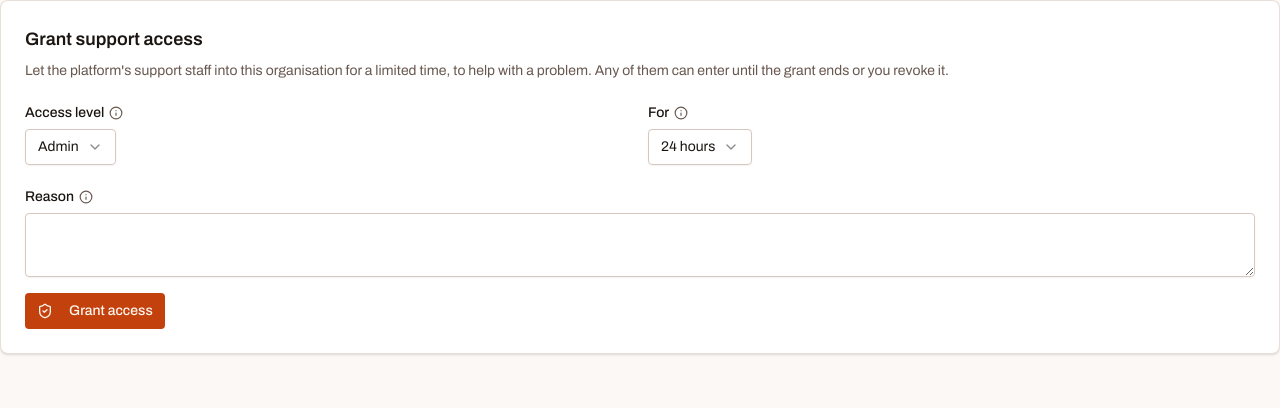
Test: SupportGrantForm › shows the API’s refusal as worded, and does not refresh
In the text box labelled "Reason": coordinates (640, 245) top-left (25, 213), bottom-right (1255, 277), type "Ticket 42"
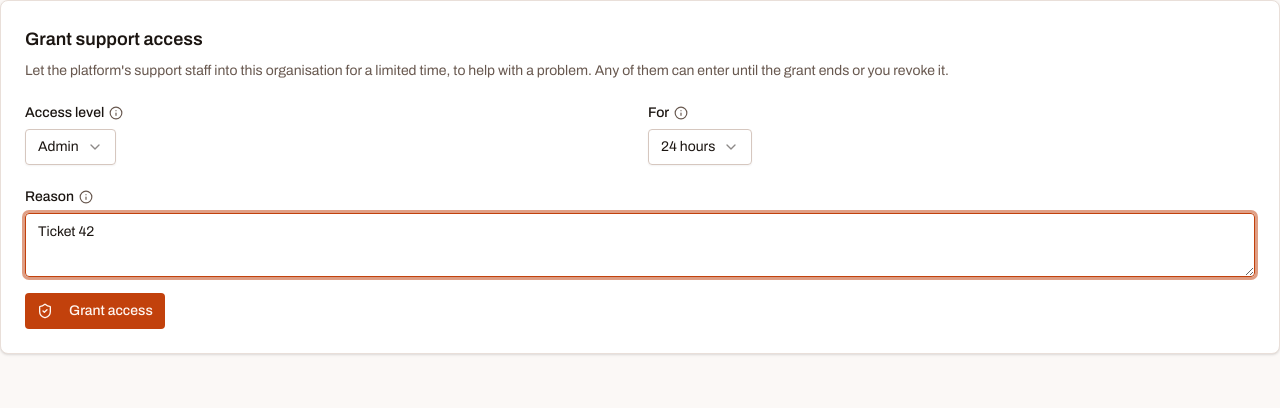
Click the button "Grant access": coordinates (95, 311) top-left (25, 293), bottom-right (165, 329)
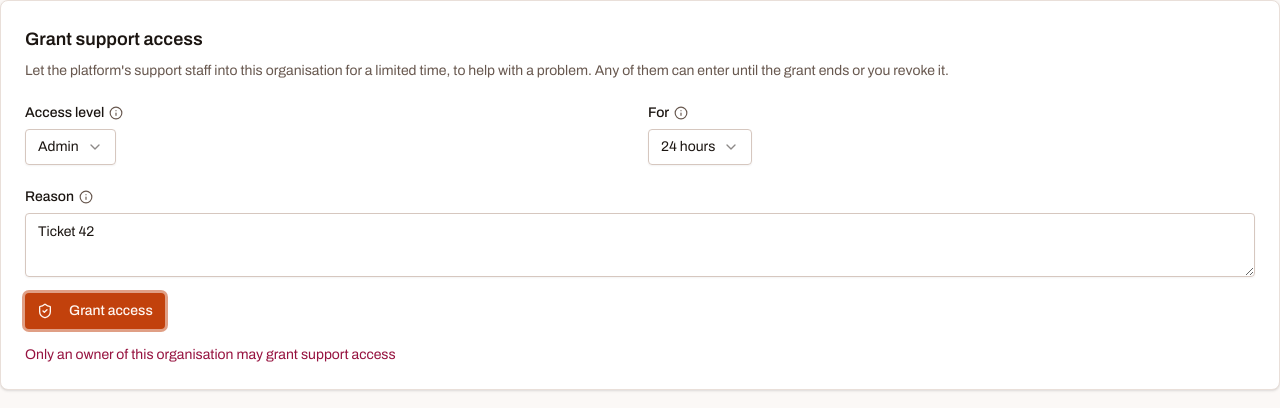
Expected: the message reads "Only an owner of this organisation may grant support access", top-left (25, 347), bottom-right (396, 362)
